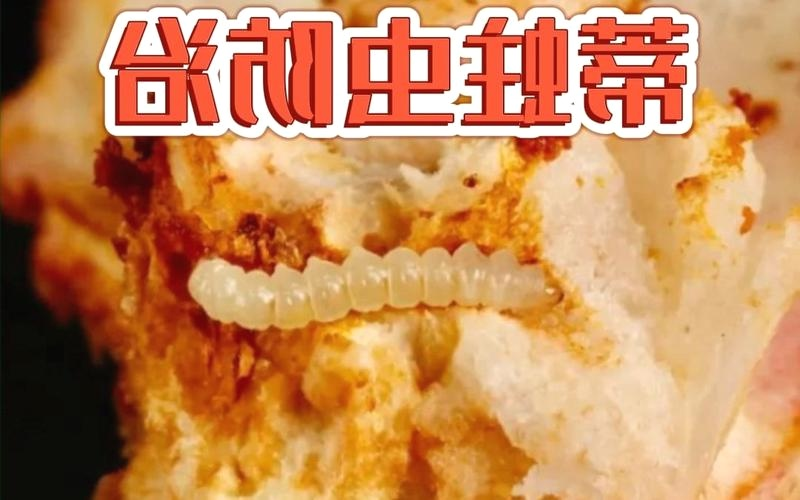Borer: (189, 221, 553, 339)
